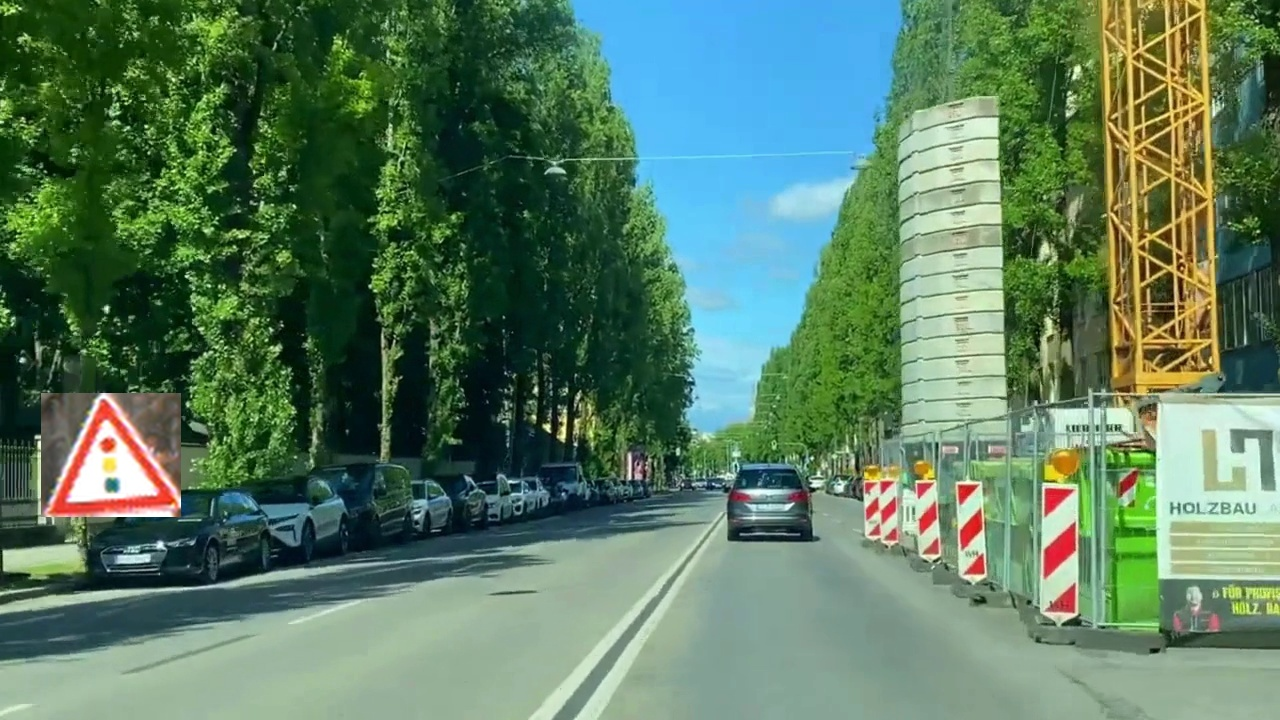Signals: (41, 393, 181, 517)
